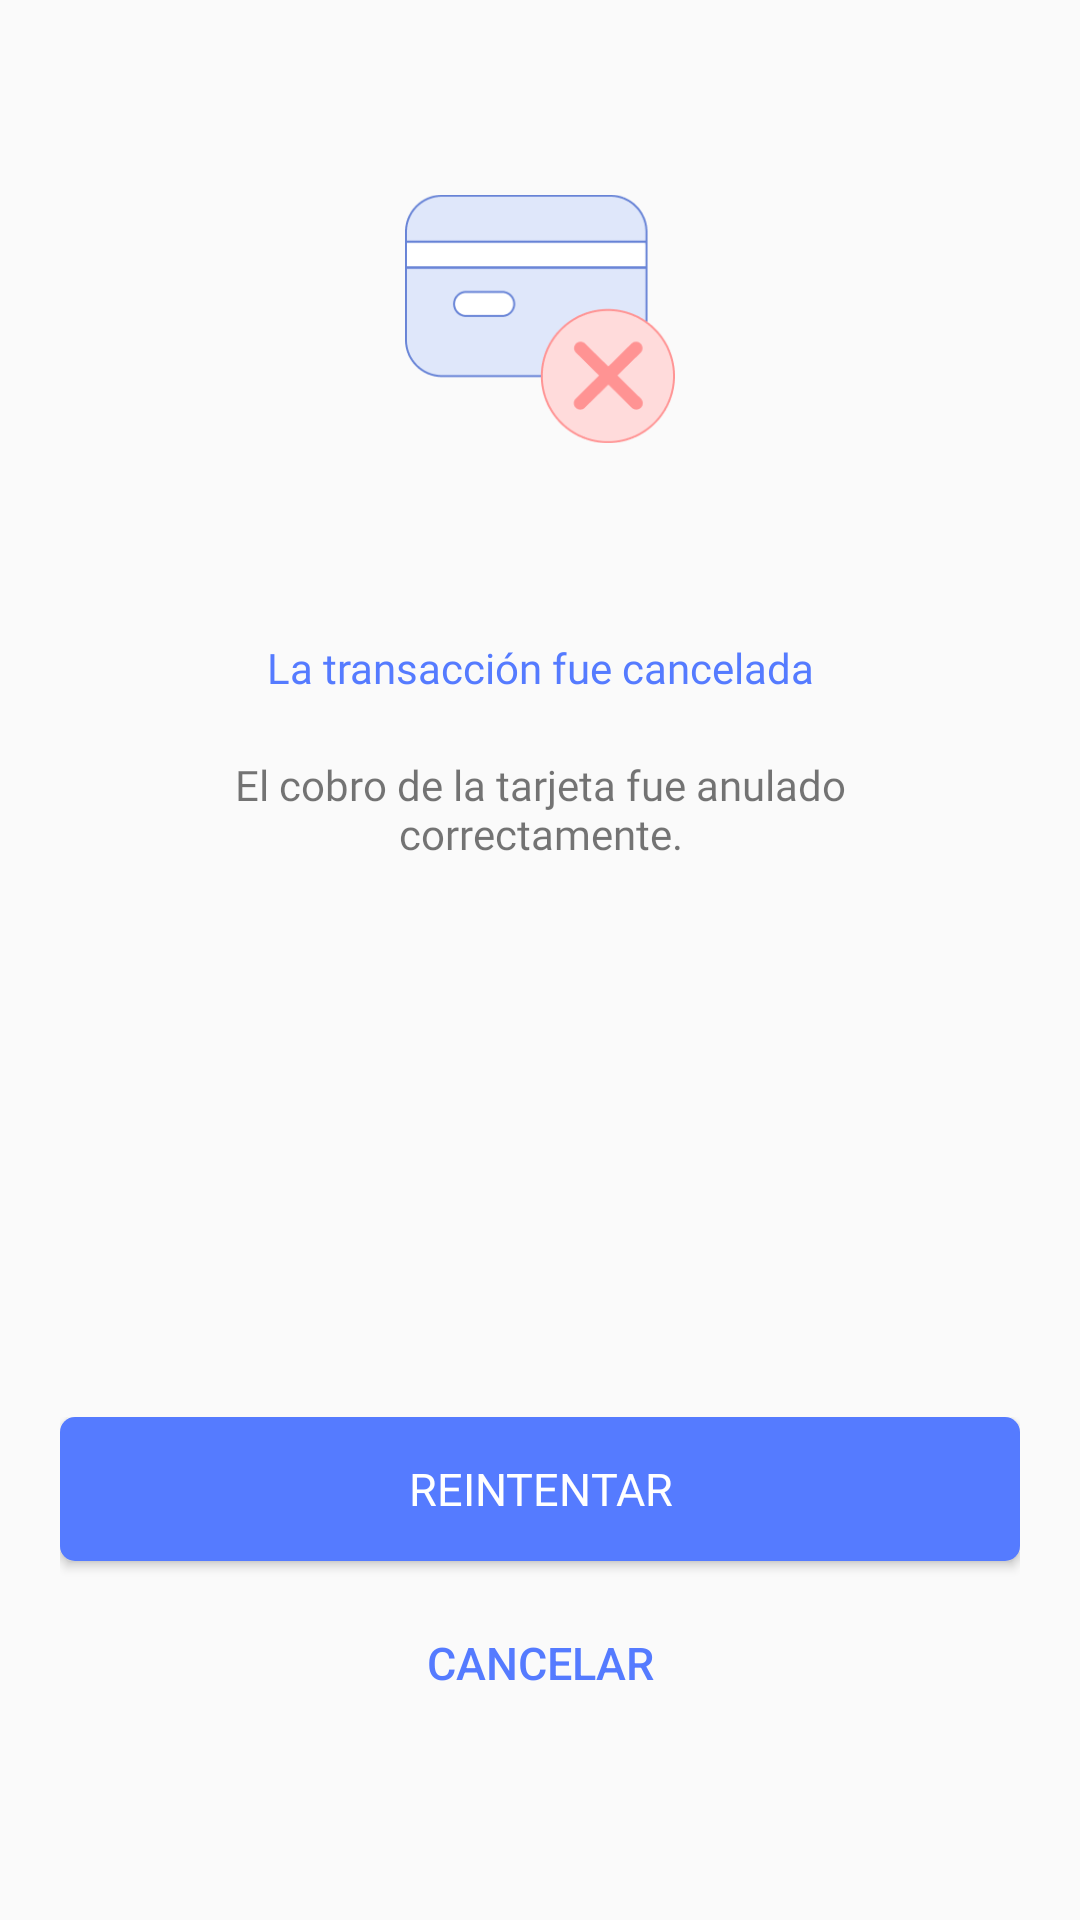

Screen size 1080 x 1920. Icon name, then its box in pixels as (x1, y1, x2, y2):
cancelation trade: (405, 195, 675, 443)
